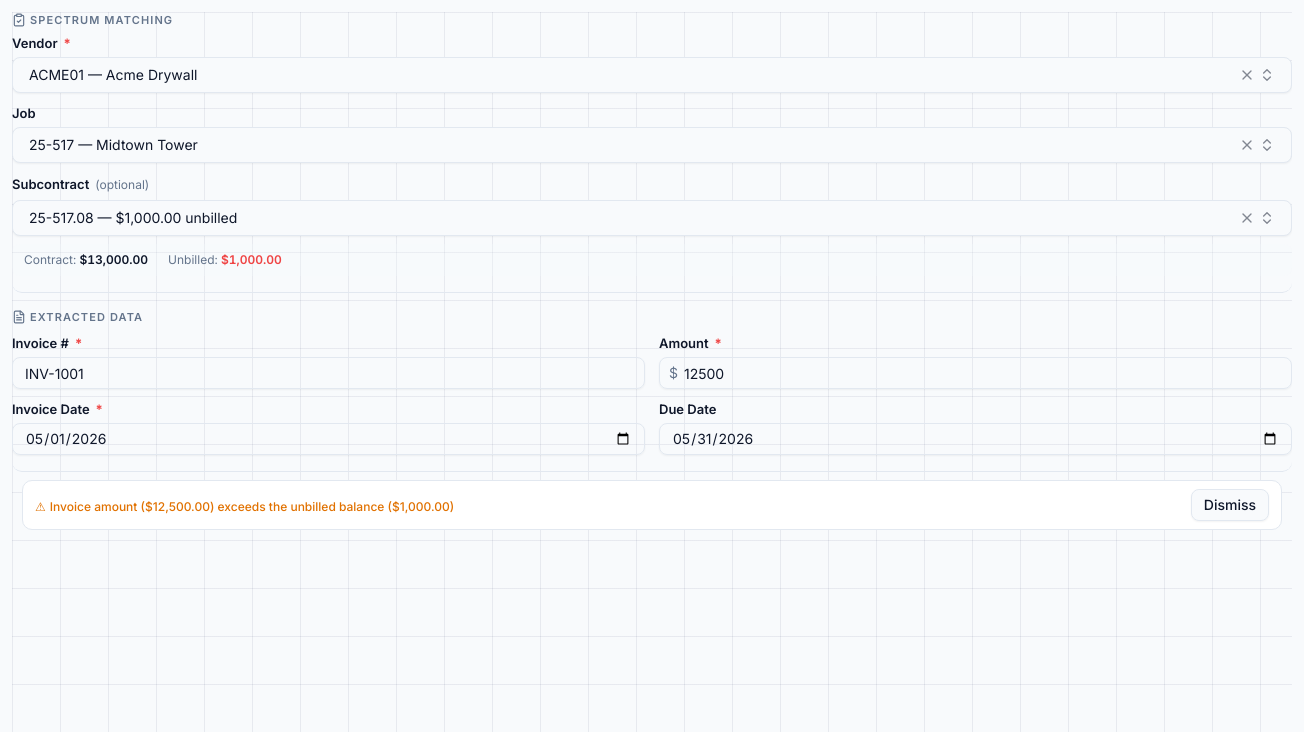
Test: InvoiceDetailForm › moves only the unbilled notice to the opted-in outlet and clears it after editing
The width and height of the screenshot is (1304, 732).
Expected: the text "exceeds the unbilled balance" shows "$12,500.00", [145,499,210,514]
Expected: the text "Contract:" is shown, [24,252,76,266]
Replace the text in the number field labelled "Amount *" with "500" at {"x": 976, "y": 373}, box [659,357,1292,389]
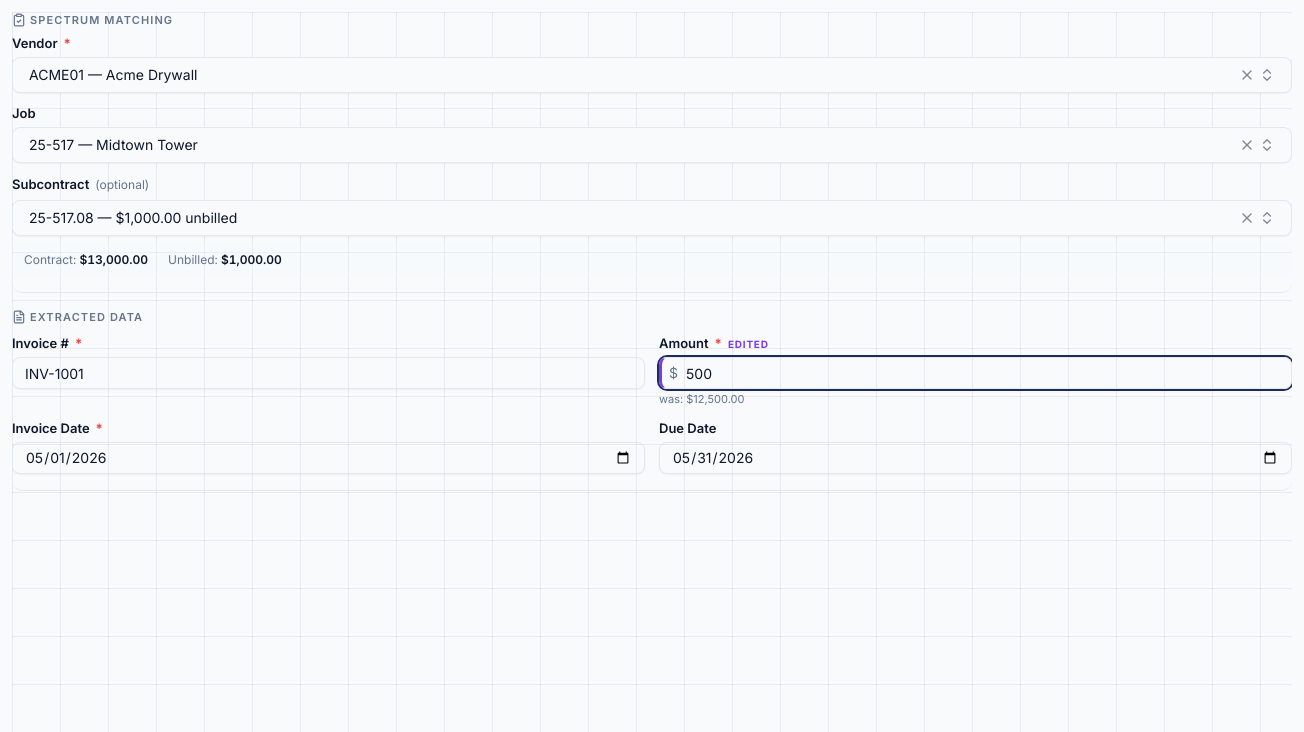
Now the text "exceeds the unbilled balance" is gone
